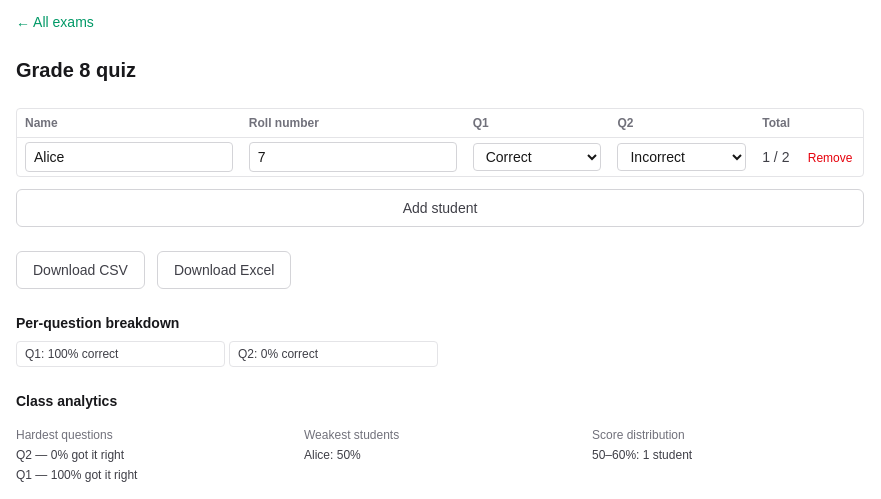
Test case: ExamResultsClient › shows an error with a retry option when the save fails
Step 1. Replace the text in the field named "Student name" with "Alicia" → (129, 157), box x1=25 y1=142 x2=233 y2=172
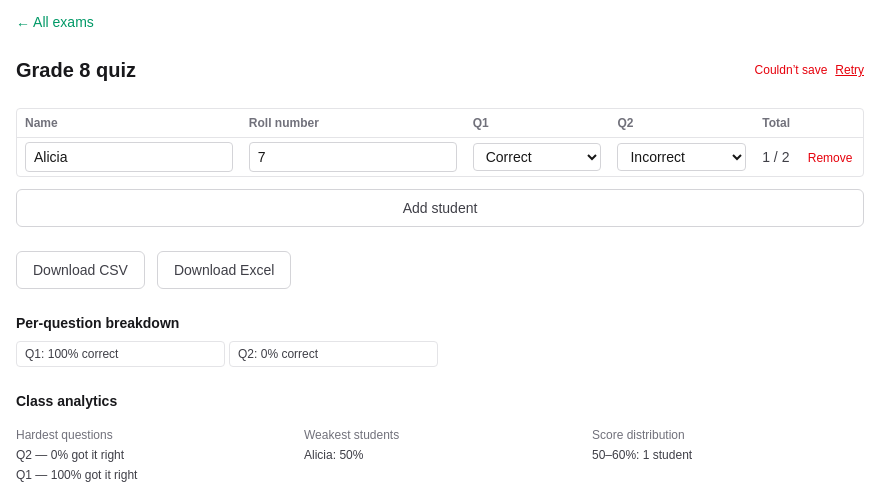
Step 2. Click the button "Retry" → click(850, 70), box x1=835 y1=62 x2=864 y2=78
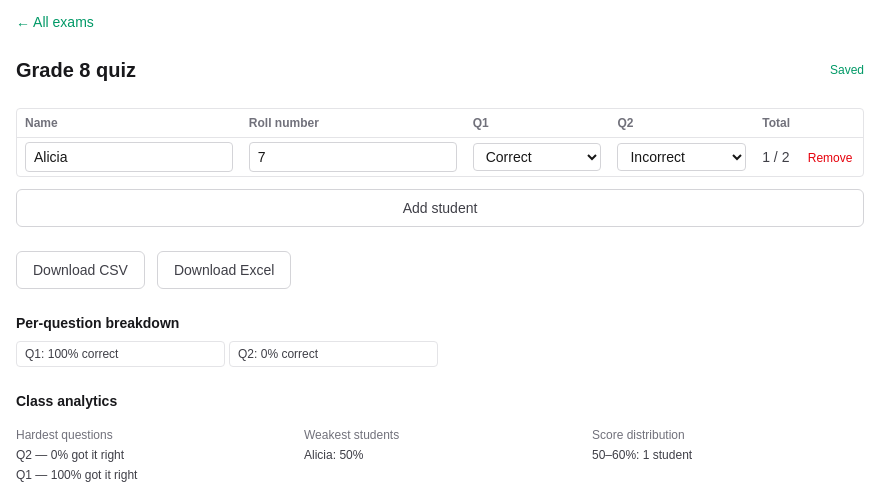
expect the message reads "Saved": met, box x1=830 y1=63 x2=864 y2=77
